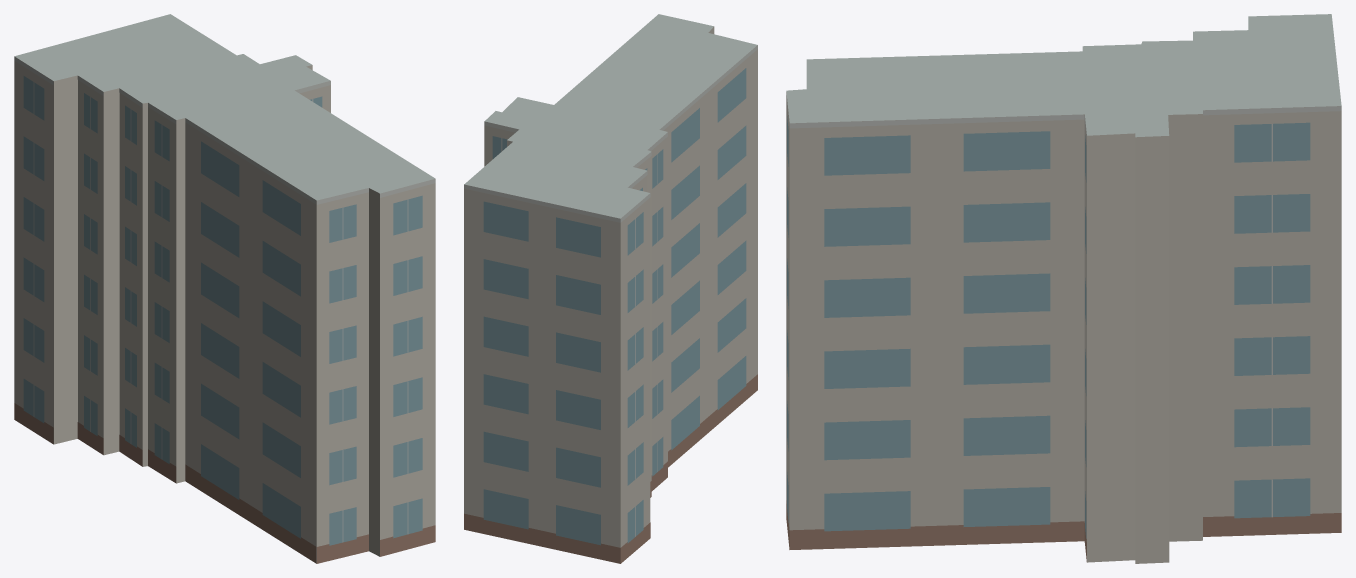
File: survey-upis-32580326.glb
3 renders of one model, left to right at view 1: azimuth 30°, elevation 25°; view 2: azimuth 150°, elevation 25°; view 3: azimuth 270°, elevation 25°, orthographic. The views are drawn at different scales.
Parts seen in each view (by area): view 1: survey-upis-32580326.tmp; view 2: survey-upis-32580326.tmp; view 3: survey-upis-32580326.tmp.
Part boxes in pixels (x1,y1,x2,y2): survey-upis-32580326.tmp: (14,14,435,563); survey-upis-32580326.tmp: (464,14,757,563); survey-upis-32580326.tmp: (786,14,1341,563).
Bounding box in the file's own units: 12.57 × 20.3 × 23.95.
